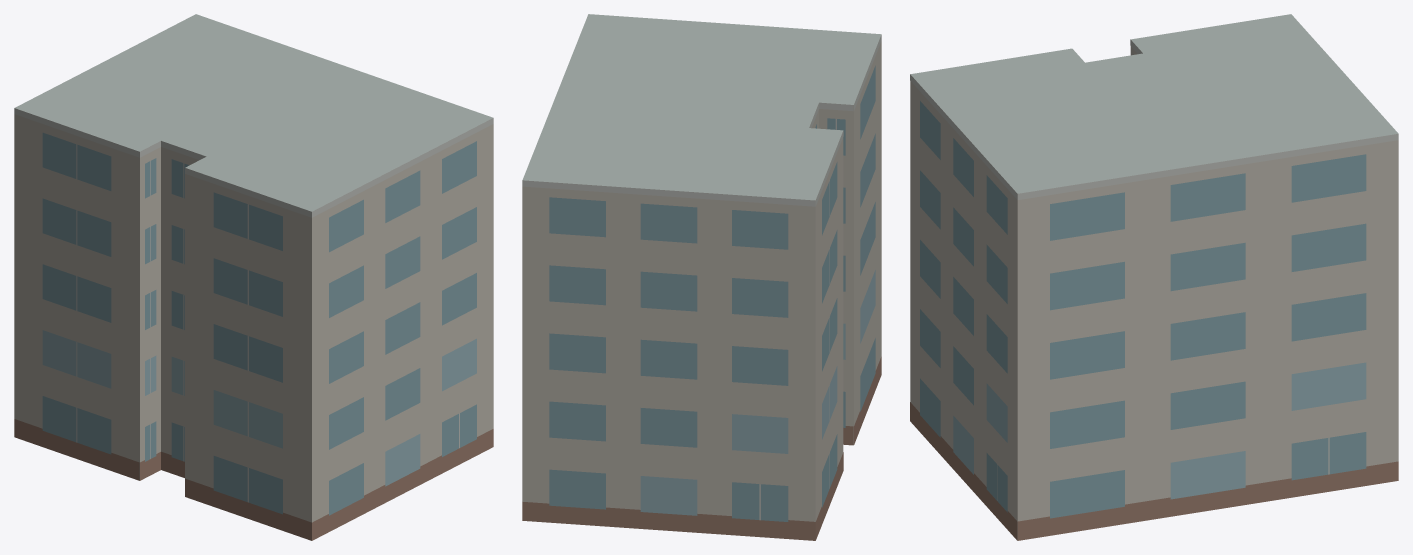
The model's file is survey-upis-32524066.glb.
3 views of the same model, side by side, from view 1: azimuth 30°, elevation 25°; view 2: azimuth 150°, elevation 25°; view 3: azimuth 270°, elevation 25° (orthographic). The views are drawn at different scales.
Visible parts, largest first — view 1: survey-upis-32524066.tmp; view 2: survey-upis-32524066.tmp; view 3: survey-upis-32524066.tmp.
Part boxes in pixels (x1,y1,x2,y2): survey-upis-32524066.tmp: (14, 14, 493, 540); survey-upis-32524066.tmp: (522, 14, 881, 540); survey-upis-32524066.tmp: (910, 14, 1398, 540).
Bounding box in the file's own units: 14.79 × 13.3 × 16.98.
